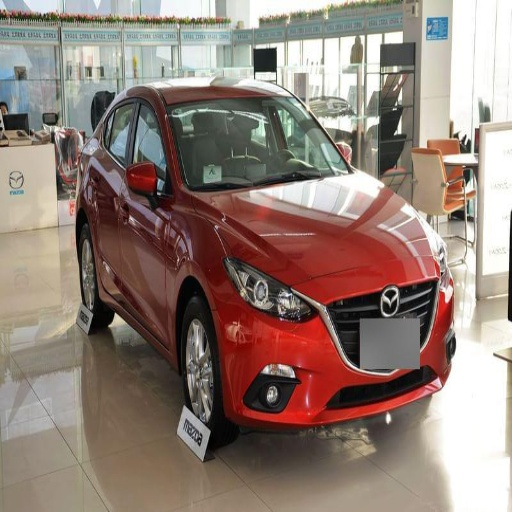back_left_light: (93, 92, 138, 287)
back_right_light: (217, 272, 449, 426)
front_bumper: (169, 94, 351, 190)
front_left_light: (124, 92, 172, 336)
front_right_door: (225, 258, 318, 322)
front_right_light: (194, 172, 441, 292)
trunk: (180, 295, 223, 455), (78, 221, 96, 329)
